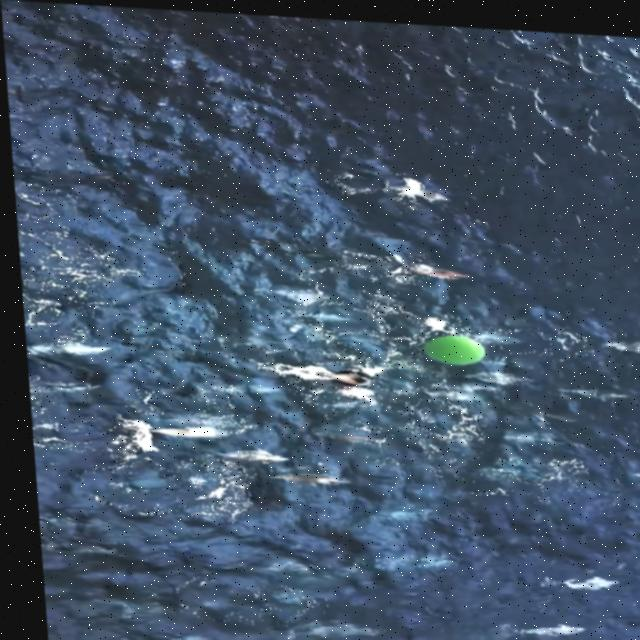balloon: (413, 328, 481, 359)
